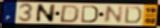3: (17, 2, 34, 24)
D: (58, 5, 81, 24), (124, 6, 144, 25), (80, 5, 99, 24)
N: (35, 3, 57, 23), (103, 5, 125, 25)
